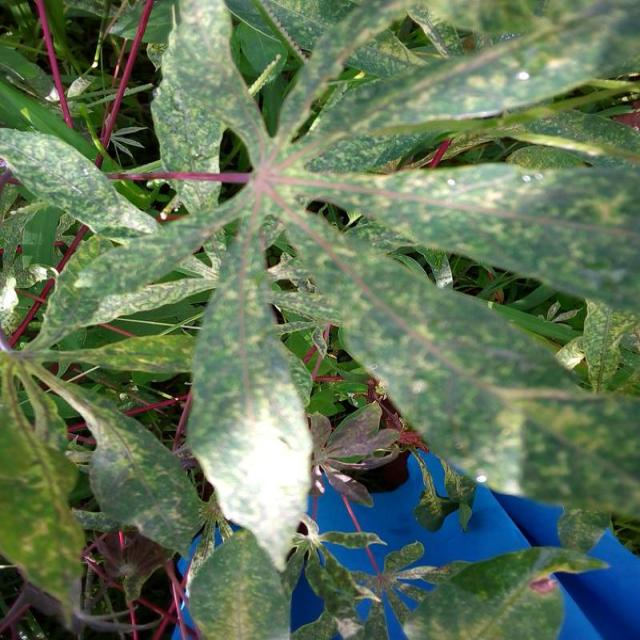cassava leaf: (2, 1, 640, 636), (187, 221, 316, 572)
